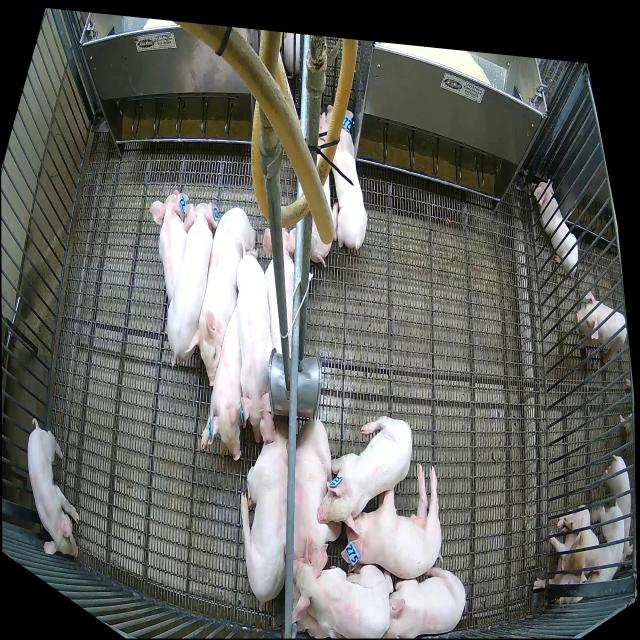pig: (185, 207, 258, 387), (341, 461, 442, 580), (317, 416, 412, 532), (293, 532, 382, 640), (240, 409, 288, 601), (292, 547, 392, 637), (167, 202, 219, 367), (236, 249, 274, 442), (293, 418, 340, 572), (28, 418, 79, 557), (320, 104, 367, 250), (200, 306, 243, 461), (382, 566, 466, 638), (149, 190, 189, 302), (263, 228, 295, 359), (310, 115, 338, 263)
